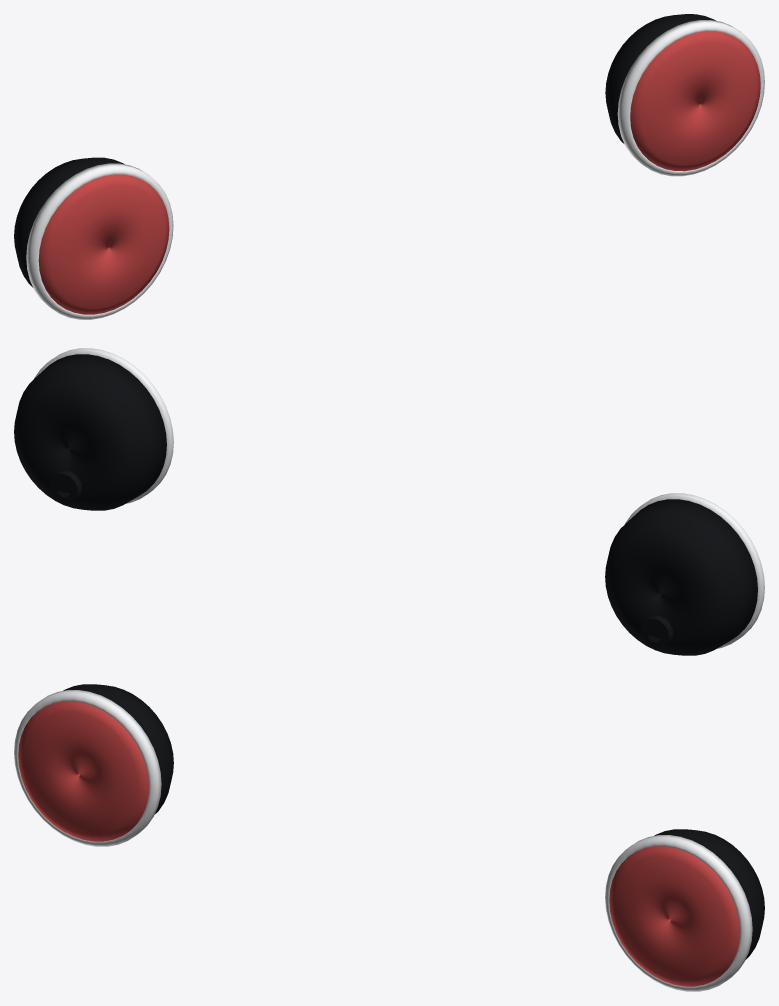
The model's file is DL02_rally_lamps_covered.glb.
3 views of the same model, one above another, from view 1: azimuth 30°, elevation 25°; view 2: azimuth 150°, elevation 25°; view 3: azimuth 330°, elevation 25° (orthographic).
Parts seen in each view (by area): view 1: MOD_NA_DL02_cover_R, MOD_NA_DL02_cover_L, MOD_NA_DL02_bezel_R, MOD_NA_DL02_bezel_L, MOD_NA_DL02_housing_R, MOD_NA_DL02_housing_L; view 2: MOD_NA_DL02_housing_L, MOD_NA_DL02_housing_R, MOD_NA_DL02_bezel_R, MOD_NA_DL02_bezel_L, MOD_NA_DL02_foot_L, MOD_NA_DL02_foot_R; view 3: MOD_NA_DL02_cover_L, MOD_NA_DL02_cover_R, MOD_NA_DL02_bezel_L, MOD_NA_DL02_bezel_R, MOD_NA_DL02_housing_R, MOD_NA_DL02_housing_L.
Boxes of the visible parts, x1,y1,x2,y2 form: MOD_NA_DL02_cover_R: (38, 174, 169, 314); MOD_NA_DL02_cover_L: (630, 31, 760, 171); MOD_NA_DL02_bezel_R: (26, 163, 173, 319); MOD_NA_DL02_bezel_L: (617, 20, 764, 176); MOD_NA_DL02_housing_R: (14, 157, 124, 287); MOD_NA_DL02_housing_L: (605, 14, 715, 143); MOD_NA_DL02_housing_L: (14, 354, 166, 510); MOD_NA_DL02_housing_R: (605, 499, 757, 655); MOD_NA_DL02_bezel_R: (625, 493, 764, 648); MOD_NA_DL02_bezel_L: (34, 348, 173, 503); MOD_NA_DL02_foot_L: (49, 470, 82, 503); MOD_NA_DL02_foot_R: (640, 615, 673, 648); MOD_NA_DL02_cover_L: (609, 846, 740, 986); MOD_NA_DL02_cover_R: (18, 701, 148, 841); MOD_NA_DL02_bezel_L: (605, 835, 752, 991); MOD_NA_DL02_bezel_R: (14, 690, 161, 846); MOD_NA_DL02_housing_R: (63, 684, 173, 813); MOD_NA_DL02_housing_L: (654, 829, 764, 959).
Size of the model in its own units: 0.82 by 0.16 by 0.0919.
